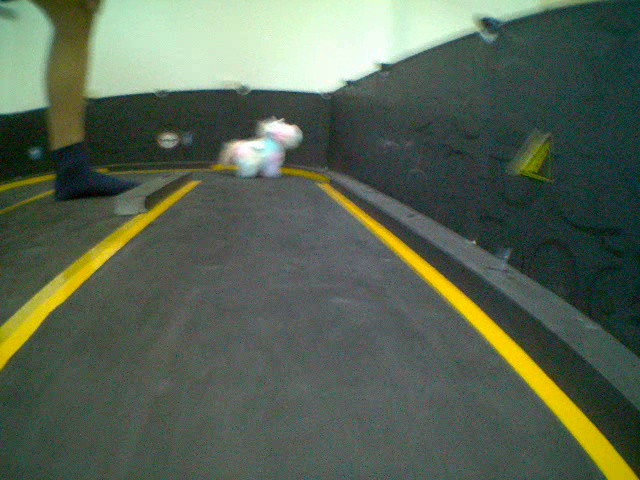unicorn: (221, 113, 306, 184)
